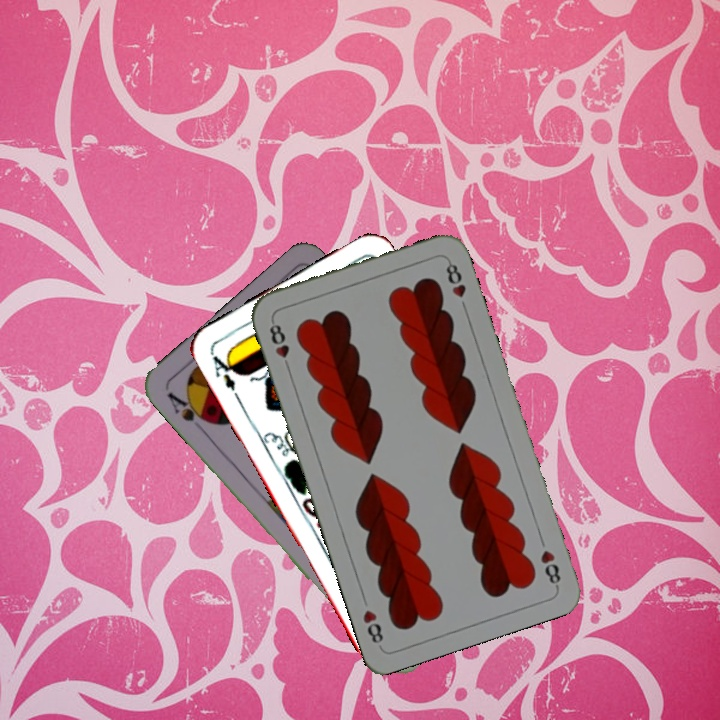EA: (206, 348, 242, 402)
H8: (265, 316, 293, 373), (536, 545, 564, 590)
SA: (163, 388, 214, 427)
